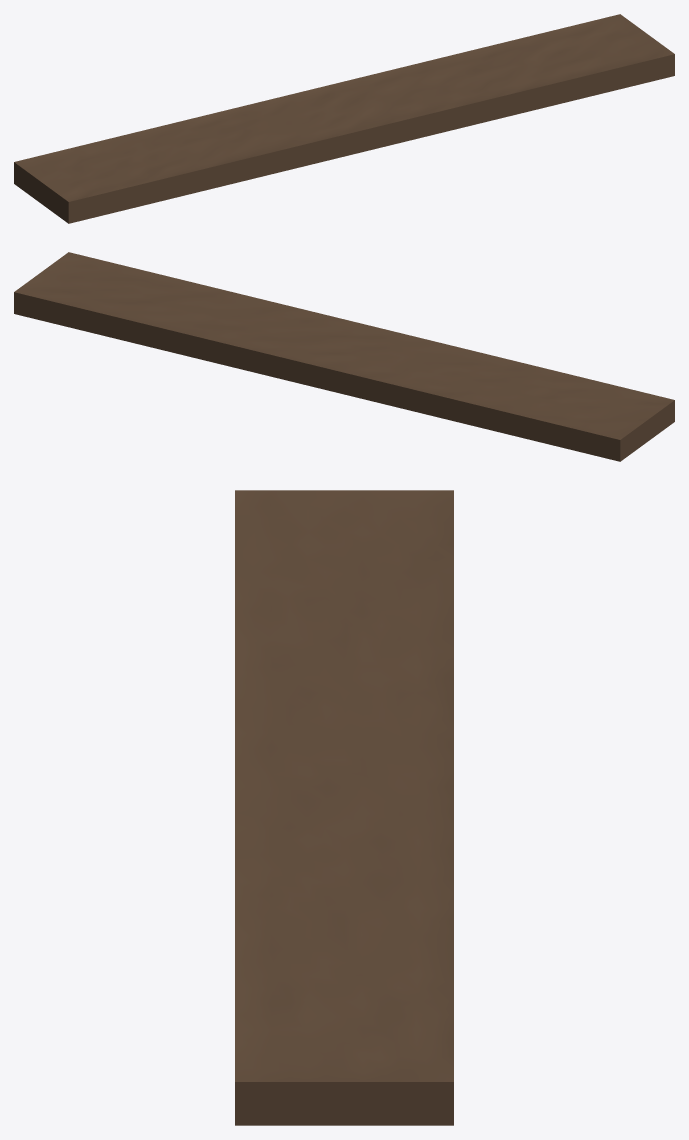
Rendered from body_close.fbx.
The picture shows the model from 3 angles, top to bottom: view 1: azimuth 30°, elevation 25°; view 2: azimuth 150°, elevation 25°; view 3: azimuth 270°, elevation 25°; orthographic projection. The views are drawn at different scales.
Visible parts, largest first — view 1: p472_BodyClose; view 2: p472_BodyClose; view 3: p472_BodyClose.
Boxes of the visible parts, x1=… form: p472_BodyClose: x1=14, y1=14, x2=674, y2=223; p472_BodyClose: x1=14, y1=252, x2=674, y2=461; p472_BodyClose: x1=235, y1=490, x2=453, y2=1125.
Bounding box in the file's own units: 16 × 0.55 × 2.5.
